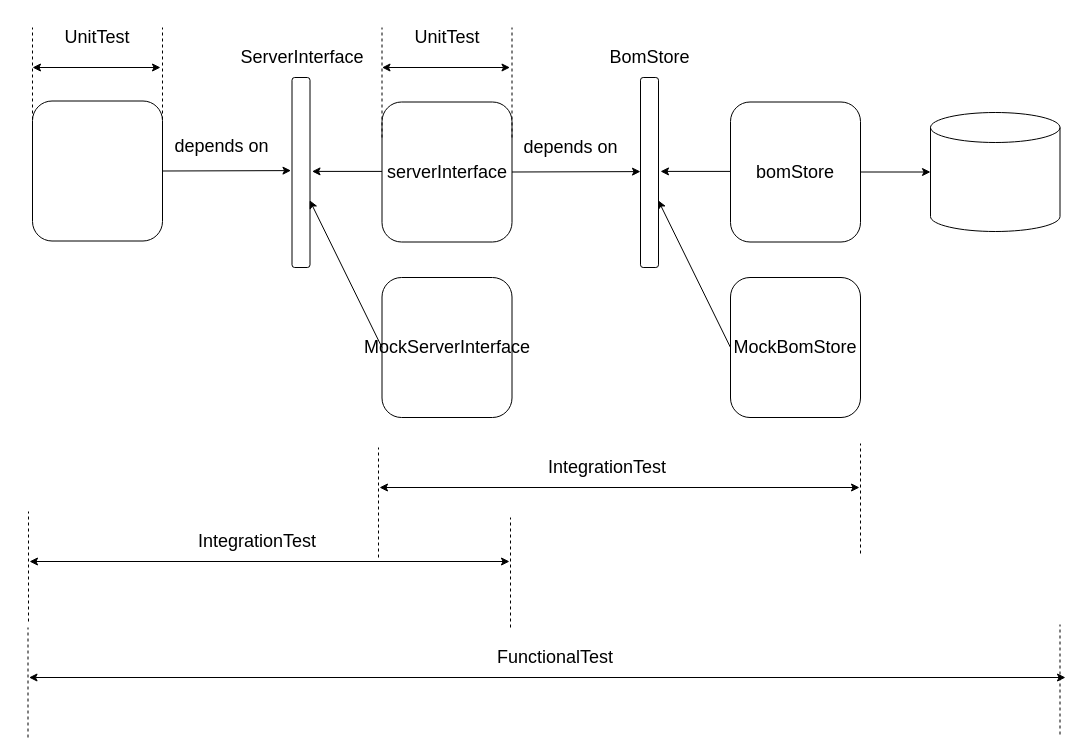
The diagram is 1092 pixels wide and 756 high, and some of its shapes have lost their labels. The box of each missing label's shape, as (x1, y1, x2, y2) in pixels:
DB: (930, 112, 1060, 232)
NewRouter: (32, 100, 162, 241)
